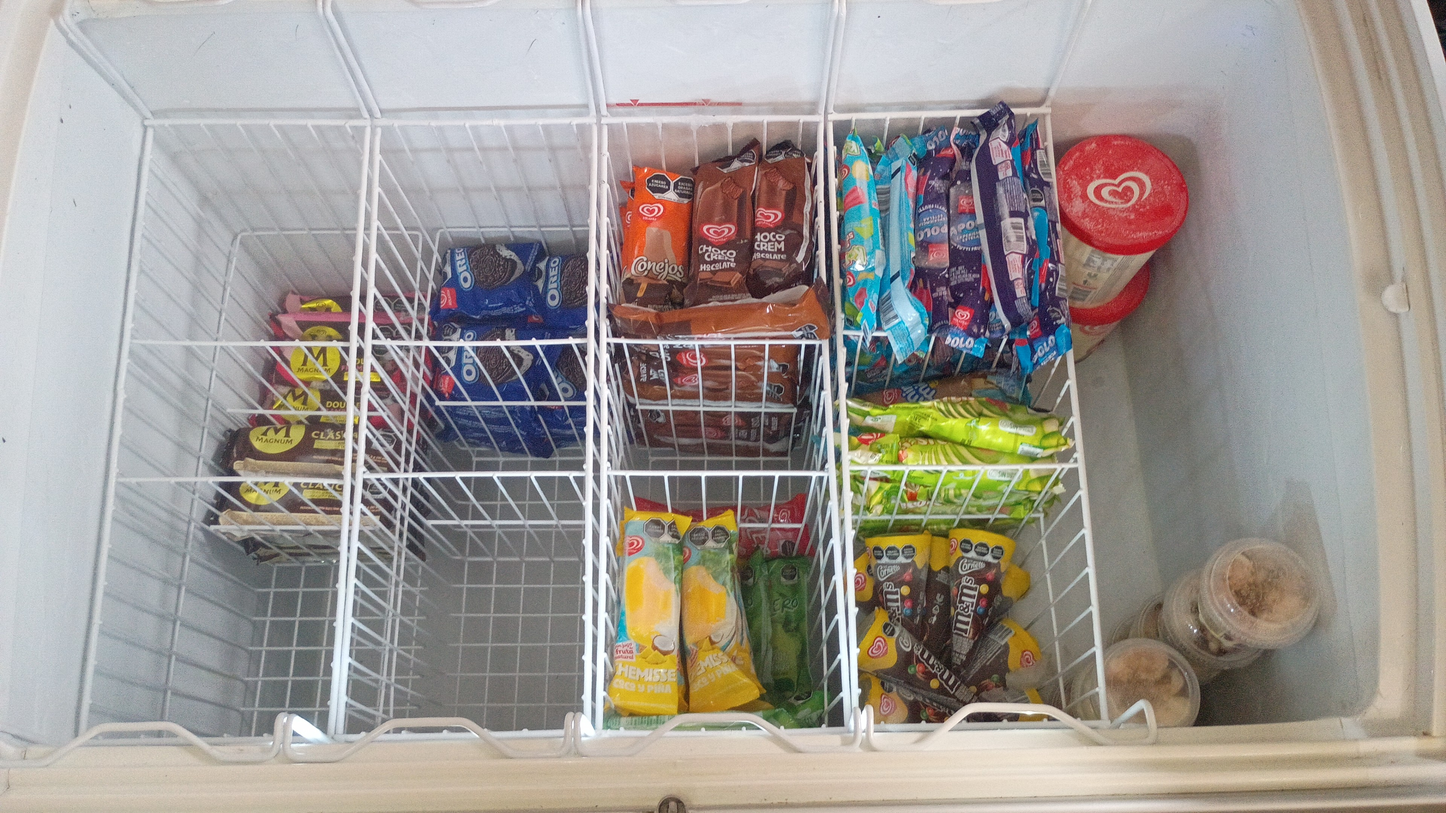rejilla: (79, 129, 152, 734), (328, 127, 370, 734), (340, 129, 381, 733), (828, 125, 857, 707), (1069, 353, 1106, 720), (825, 344, 850, 722), (596, 129, 607, 729), (585, 126, 596, 719), (377, 119, 594, 125), (372, 339, 589, 345), (829, 111, 986, 119), (849, 464, 1079, 469), (117, 478, 343, 483), (603, 117, 822, 122), (131, 340, 349, 345), (606, 471, 830, 475), (363, 473, 586, 477), (607, 339, 825, 343), (819, 126, 824, 280), (1046, 116, 1054, 175), (147, 121, 367, 123), (1013, 109, 1049, 112), (843, 331, 862, 333), (874, 333, 885, 335)
